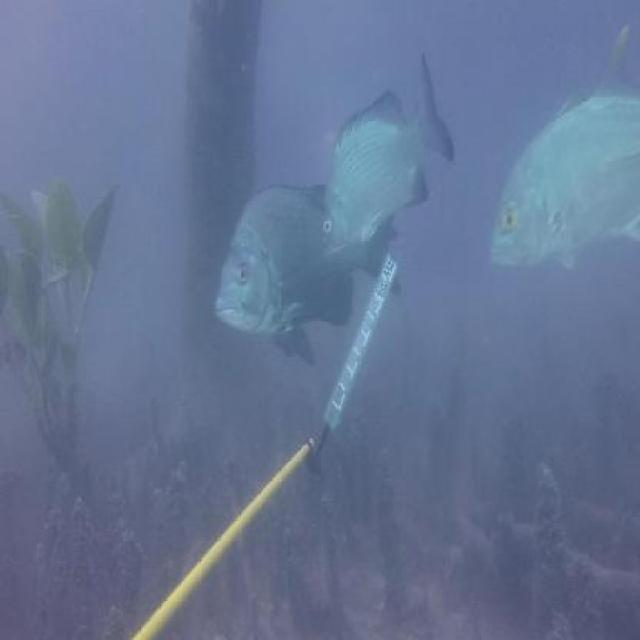Caranx: (486, 21, 640, 281)
acanthopagrus_palmaris: (218, 176, 400, 364), (321, 44, 459, 271)
